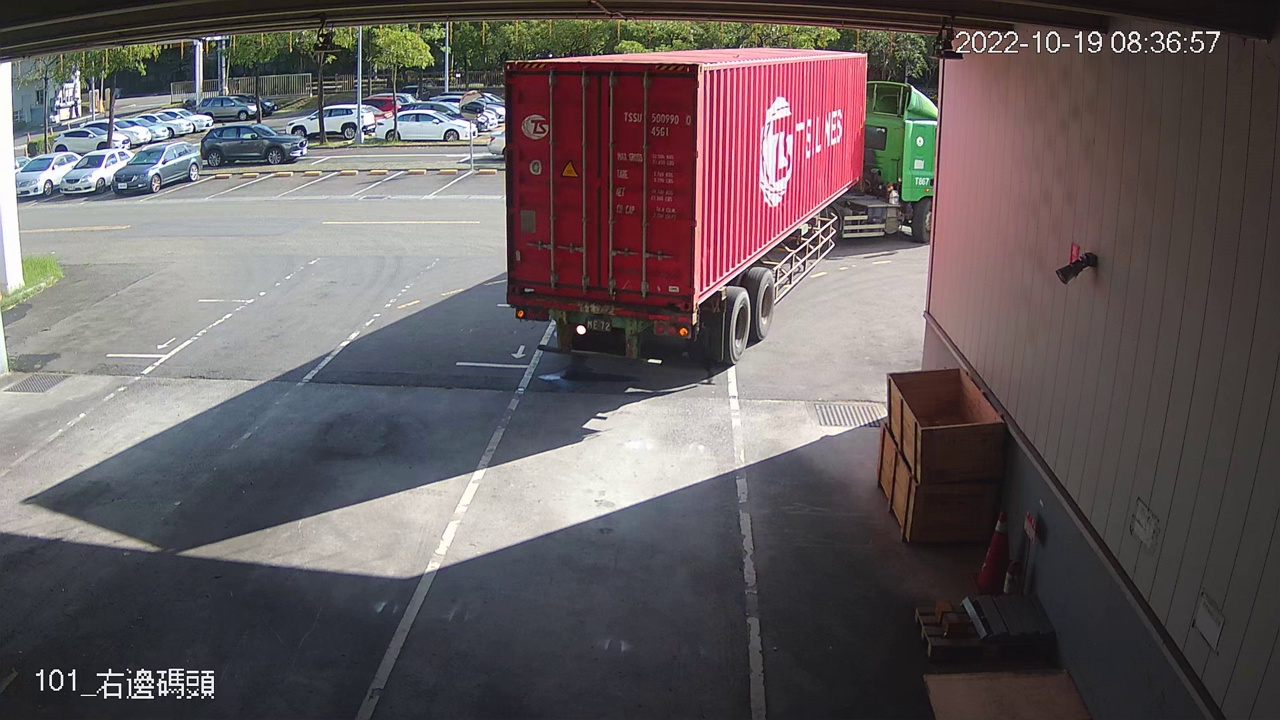container: (618, 106, 694, 141)
